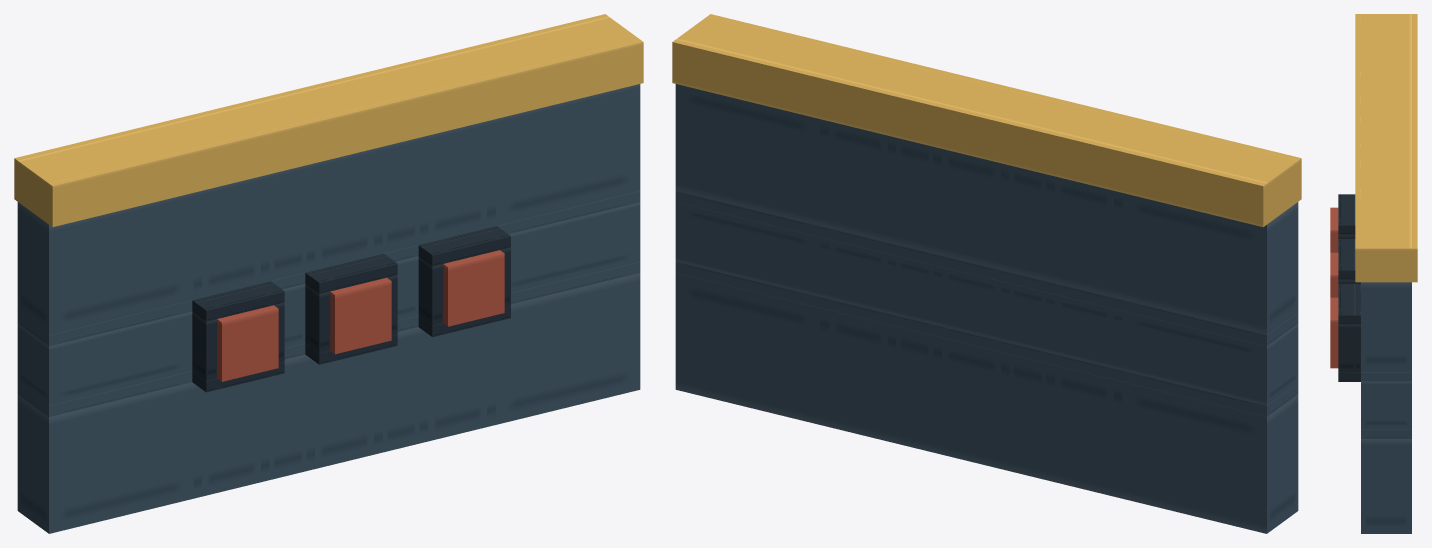
The model's file is sc_laser3.obj.
The picture shows the model from 3 angles, left to right: view 1: azimuth 30°, elevation 25°; view 2: azimuth 150°, elevation 25°; view 3: azimuth 270°, elevation 25°; orthographic projection. The views are drawn at different scales.
Size of the model in its own units: 19.6 by 11.1 by 3.08.
Materials: 1 (1 with a texture image).
